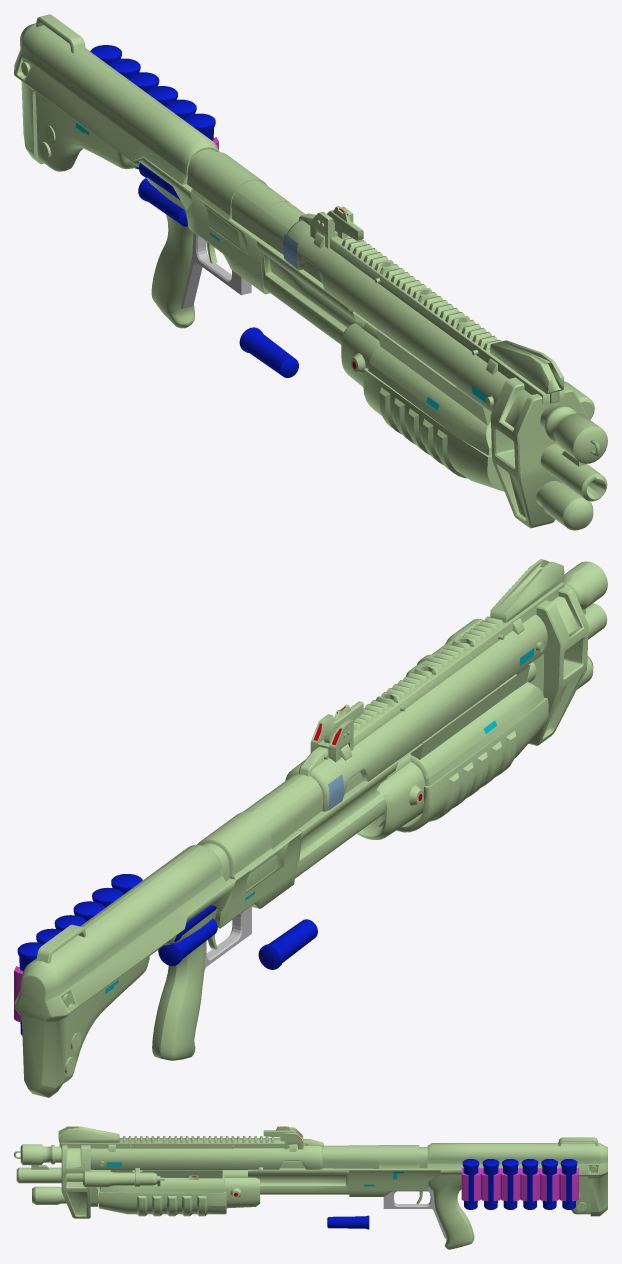
The model's file is M45_Rigged_BrashWhisper_1stP.fbx.
The picture shows the model from 3 angles, top to bottom: view 1: azimuth 30°, elevation 25°; view 2: azimuth 150°, elevation 25°; view 3: azimuth 270°, elevation 25°; orthographic projection. The views are drawn at different scales.
Parts seen in each view (by area): view 1: MainBody, Pump, ShellRackShells, TriggerGuard, Shell1, Shell3; view 2: MainBody, Pump, ShellRackShells, Shell1, Shell3, TriggerGuard; view 3: MainBody, Pump, ShellRackShells, ShellRack, Shell1, TriggerGuard.
Part boxes in pixels (x1,y1,x2,y2): MainBody: (14, 14, 607, 530); Pump: (341, 323, 594, 491); ShellRackShells: (90, 45, 215, 169); TriggerGuard: (181, 232, 251, 308); Shell1: (239, 327, 298, 377); Shell3: (138, 178, 187, 226); MainBody: (14, 559, 607, 1097); Pump: (357, 618, 548, 839); ShellRackShells: (17, 874, 142, 1035); Shell1: (258, 919, 317, 969); Shell3: (158, 918, 217, 966); TriggerGuard: (204, 906, 251, 971); MainBody: (14, 1126, 607, 1249); Pump: (83, 1168, 260, 1216); ShellRackShells: (462, 1159, 577, 1209); ShellRack: (461, 1168, 578, 1201); Shell1: (327, 1215, 369, 1229); TriggerGuard: (383, 1187, 446, 1238).
Bounding box in the file's own units: 8.85 × 19.58 × 86.27.
